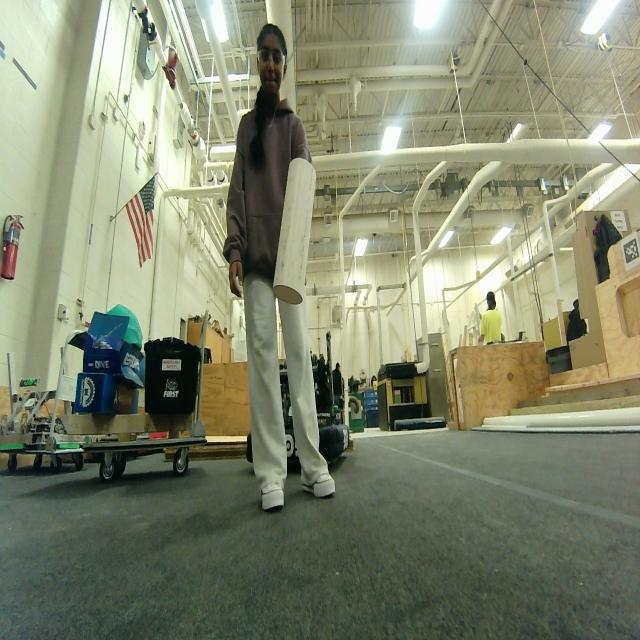coral: (266, 152, 318, 312)
